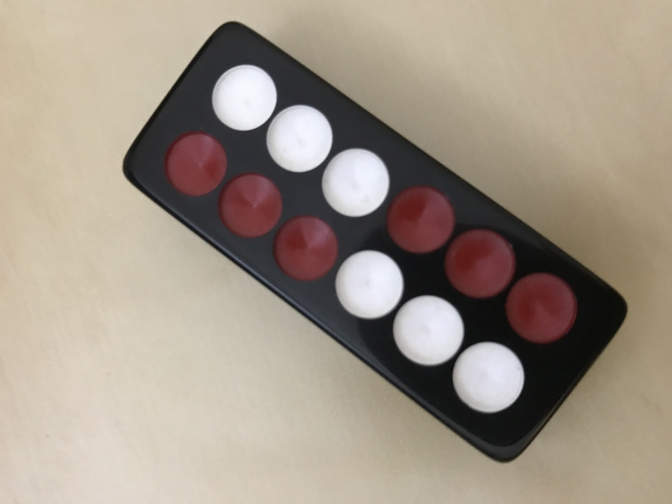heaven: (123, 21, 630, 465)
